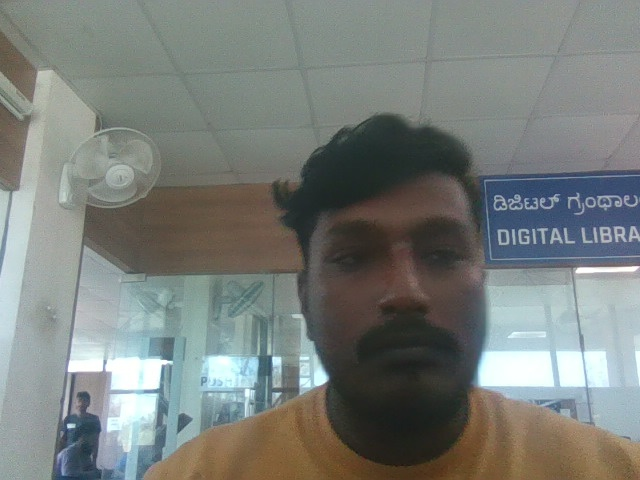real: (280, 96, 514, 427)
